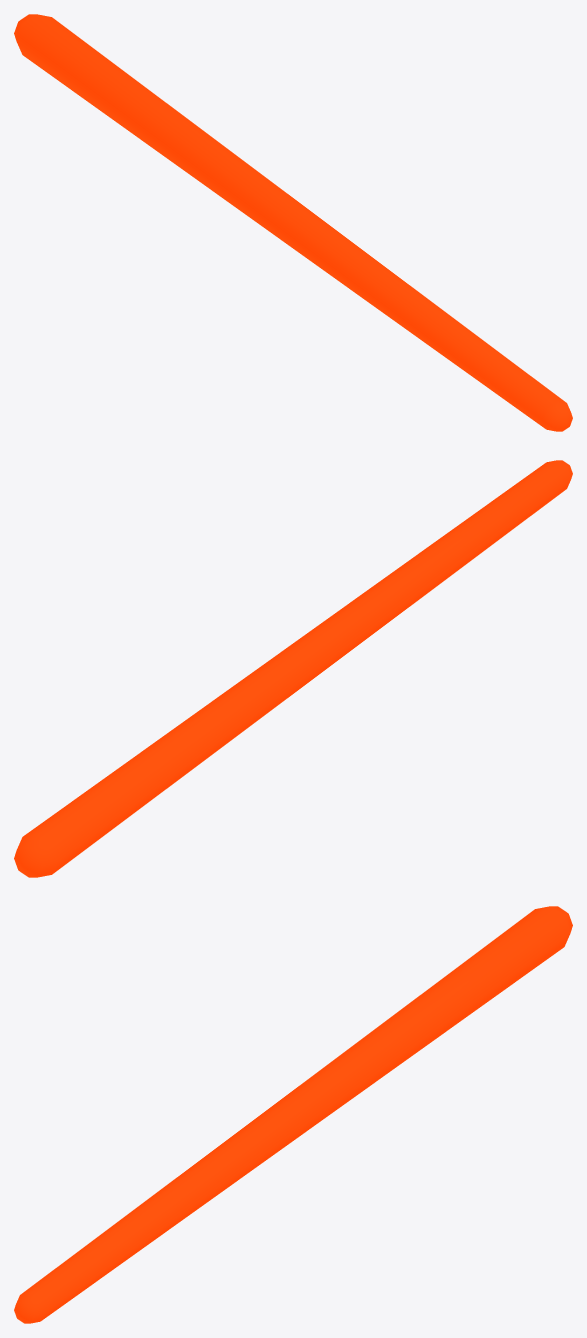
Rendered from Mdl.Laser.Thin.fbx.
The picture shows the model from 3 angles, top to bottom: view 1: azimuth 30°, elevation 25°; view 2: azimuth 150°, elevation 25°; view 3: azimuth 330°, elevation 25°; orthographic projection.
Visible parts, largest first — view 1: Mesh.Laser.Thin; view 2: Mesh.Laser.Thin; view 3: Mesh.Laser.Thin.
Part boxes in pixels (<box>): Mesh.Laser.Thin: <box>14,14,572,431</box>; Mesh.Laser.Thin: <box>14,460,572,877</box>; Mesh.Laser.Thin: <box>14,906,572,1323</box>.
Size of the model in its own units: 0.0265 by 0.0265 by 0.5962.
